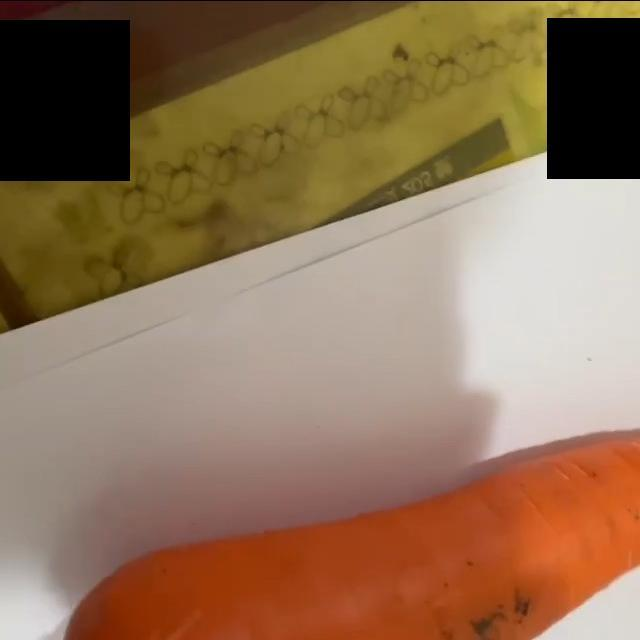carrot: (1, 437, 640, 640)
